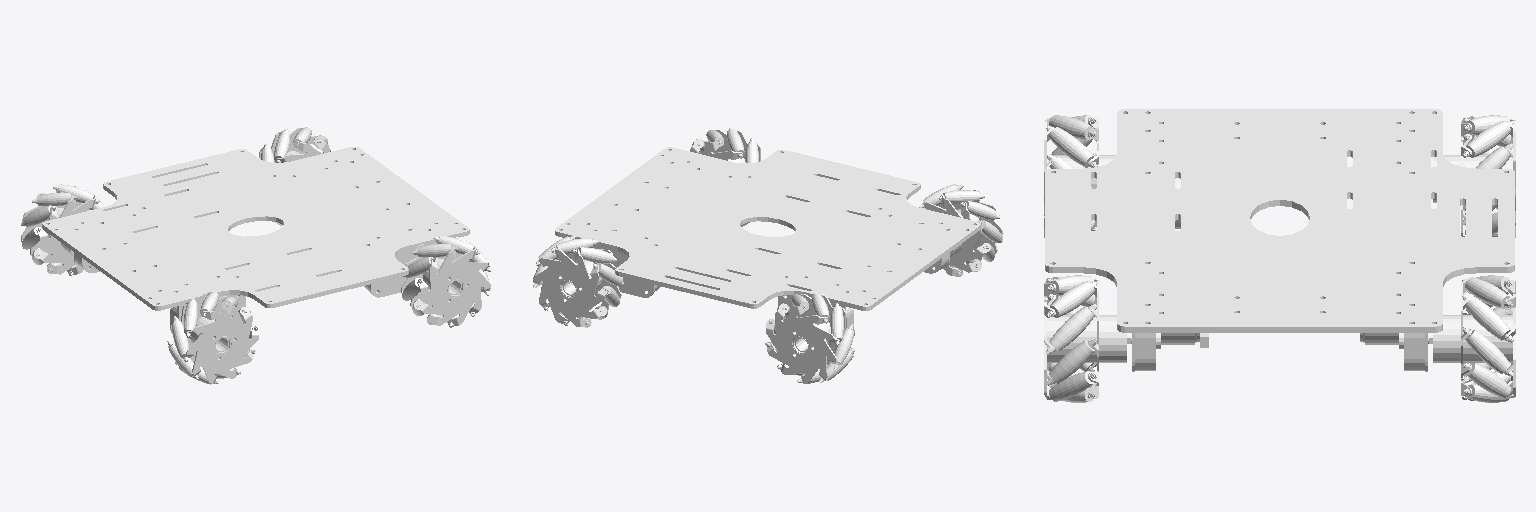
URDF robot description (genimind_description):
<?xml version="1.0" encoding="utf-8"?>
<!-- This URDF was automatically created by SolidWorks to URDF Exporter! Originally created by [author] ([email redacted]) 
     Commit Version: 1.6.0-4-g7f85cfe  Build Version: 1.6.7995.38578
     For more information, please see http://wiki.ros.org/sw_urdf_exporter -->
<robot
  name="genimind_description">
  <link
    name="base_link">
    <inertial>
      <origin
        xyz="-0.000168546343865929 0.000259630628177465 -0.0129346226647377"
        rpy="0 0 0" />
      <mass
        value="0.493681601484372" />
      <inertia
        ixx="0.00132345261482042"
        ixy="-1.9928481762346E-06"
        ixz="4.4132768003374E-22"
        iyy="0.00183954978750504"
        iyz="4.72285914930666E-15"
        izz="0.00311591135609084" />
    </inertial>
    <visual>
      <origin
        xyz="0 0 0"
        rpy="0 0 0" />
      <geometry>
        <mesh
          filename="package://genimind_description/meshes/base_link.STL" />
      </geometry>
      <material
        name="">
        <color
          rgba="1 1 1 1" />
      </material>
    </visual>
    <collision>
      <origin
        xyz="0 0 0"
        rpy="0 0 0" />
      <geometry>
        <mesh
          filename="package://genimind_description/meshes/base_link.STL" />
      </geometry>
    </collision>
  </link>
  <link
    name="font_left_wheel_link">
    <inertial>
      <origin
        xyz="1.34839361898287E-12 -0.0199290979136705 2.00048311249645E-14"
        rpy="0 0 0" />
      <mass
        value="0.0575554110722765" />
      <inertia
        ixx="2.56011836610163E-05"
        ixy="-2.0793290337196E-15"
        ixz="1.1951370808357E-14"
        iyy="3.40216298934298E-05"
        iyz="2.63020503447402E-15"
        izz="2.56011836668079E-05" />
    </inertial>
    <visual>
      <origin
        xyz="0 0 0"
        rpy="0 0 0" />
      <geometry>
        <mesh
          filename="package://genimind_description/meshes/font_left_wheel_link.STL" />
      </geometry>
      <material
        name="">
        <color
          rgba="1 1 1 1" />
      </material>
    </visual>
    <collision>
      <origin
        xyz="0 0 0"
        rpy="0 0 0" />
      <geometry>
        <mesh
          filename="package://genimind_description/meshes/font_left_wheel_link.STL" />
      </geometry>
    </collision>
  </link>
  <joint
    name="font_left_wheel_joint"
    type="continuous">
    <origin
      xyz="0.10999 0.13774 -0.0265"
      rpy="0 0 0" />
    <parent
      link="base_link" />
    <child
      link="font_left_wheel_link" />
    <axis
      xyz="0 1 0" />
  </joint>
  <link
    name="back_left_wheel_link">
    <inertial>
      <origin
        xyz="4.88153797939539E-09 -0.019925814247491 1.42630449569137E-08"
        rpy="0 0 0" />
      <mass
        value="0.0575558026225185" />
      <inertia
        ixx="2.56026270993425E-05"
        ixy="-1.35405247773887E-12"
        ixz="-5.50028991101141E-12"
        iyy="3.40214961937828E-05"
        iyz="1.13868273869082E-12"
        izz="2.56026407763479E-05" />
    </inertial>
    <visual>
      <origin
        xyz="0 0 0"
        rpy="0 0 0" />
      <geometry>
        <mesh
          filename="package://genimind_description/meshes/back_left_wheel_link.STL" />
      </geometry>
      <material
        name="">
        <color
          rgba="1 1 1 1" />
      </material>
    </visual>
    <collision>
      <origin
        xyz="0 0 0"
        rpy="0 0 0" />
      <geometry>
        <mesh
          filename="package://genimind_description/meshes/back_left_wheel_link.STL" />
      </geometry>
    </collision>
  </link>
  <joint
    name="back_left_wheel_joint"
    type="continuous">
    <origin
      xyz="-0.11071 0.13774 -0.0265"
      rpy="0 0 0" />
    <parent
      link="base_link" />
    <child
      link="back_left_wheel_link" />
    <axis
      xyz="0 1 0" />
  </joint>
  <link
    name="font_right_wheel_link">
    <inertial>
      <origin
        xyz="-4.88153800715097E-09 0.019925814247491 1.42630449811998E-08"
        rpy="0 0 0" />
      <mass
        value="0.0575558026225182" />
      <inertia
        ixx="2.56026270993424E-05"
        ixy="-1.35405249887298E-12"
        ixz="5.50028992875037E-12"
        iyy="3.40214961937827E-05"
        iyz="-1.13868275510801E-12"
        izz="2.56026407763478E-05" />
    </inertial>
    <visual>
      <origin
        xyz="0 0 0"
        rpy="0 0 0" />
      <geometry>
        <mesh
          filename="package://genimind_description/meshes/font_right_wheel_link.STL" />
      </geometry>
      <material
        name="">
        <color
          rgba="1 1 1 1" />
      </material>
    </visual>
    <collision>
      <origin
        xyz="0 0 0"
        rpy="0 0 0" />
      <geometry>
        <mesh
          filename="package://genimind_description/meshes/font_right_wheel_link.STL" />
      </geometry>
    </collision>
  </link>
  <joint
    name="font_right_wheel_joint"
    type="continuous">
    <origin
      xyz="0.10999 -0.13662 -0.0265"
      rpy="0 0 0" />
    <parent
      link="base_link" />
    <child
      link="font_right_wheel_link" />
    <axis
      xyz="0 -1 0" />
  </joint>
  <link
    name="back_right_wheel_link">
    <inertial>
      <origin
        xyz="-1.34839361898287E-12 0.0199290979136705 1.99805449963009E-14"
        rpy="0 0 0" />
      <mass
        value="0.0575554110722764" />
      <inertia
        ixx="2.56011836610162E-05"
        ixy="-2.0793145013203E-15"
        ixz="-1.19513650827162E-14"
        iyy="3.40216298934298E-05"
        iyz="-2.63020663651758E-15"
        izz="2.5601183666808E-05" />
    </inertial>
    <visual>
      <origin
        xyz="0 0 0"
        rpy="0 0 0" />
      <geometry>
        <mesh
          filename="package://genimind_description/meshes/back_right_wheel_link.STL" />
      </geometry>
      <material
        name="">
        <color
          rgba="1 1 1 1" />
      </material>
    </visual>
    <collision>
      <origin
        xyz="0 0 0"
        rpy="0 0 0" />
      <geometry>
        <mesh
          filename="package://genimind_description/meshes/back_right_wheel_link.STL" />
      </geometry>
    </collision>
  </link>
  <joint
    name="back_right_wheel_joint"
    type="continuous">
    <origin
      xyz="-0.11071 -0.13662 -0.0265"
      rpy="0 0 0" />
    <parent
      link="base_link" />
    <child
      link="back_right_wheel_link" />
    <axis
      xyz="0 -1 0" />
  </joint>
</robot>

--- Facts derived from the render (not from the file) ---
Views: 3 orthographic renders of the robot side by side, from view 1: azimuth 30°, elevation 25°; view 2: azimuth 150°, elevation 25°; view 3: azimuth 270°, elevation 25°.
Robot: genimind_description — 5 links, 4 joints (4 continuous); root link base_link; default pose: all joints at 0.
Visible links, largest first — view 1: base_link, back_right_wheel_link, font_right_wheel_link, back_left_wheel_link, font_left_wheel_link; view 2: base_link, back_left_wheel_link, font_left_wheel_link, back_right_wheel_link, font_right_wheel_link; view 3: base_link, font_right_wheel_link, font_left_wheel_link, back_left_wheel_link, back_right_wheel_link.
Boxes of the visible links, <box> form: base_link: <box>42,147,469,333</box>; back_right_wheel_link: <box>167,292,258,384</box>; font_right_wheel_link: <box>401,235,490,327</box>; back_left_wheel_link: <box>21,184,104,275</box>; font_left_wheel_link: <box>259,127,338,162</box>; base_link: <box>555,147,980,328</box>; back_left_wheel_link: <box>765,292,854,383</box>; font_left_wheel_link: <box>533,236,623,327</box>; back_right_wheel_link: <box>919,184,1003,276</box>; font_right_wheel_link: <box>690,128,760,162</box>; base_link: <box>1045,109,1514,371</box>; font_right_wheel_link: <box>1044,275,1126,402</box>; font_left_wheel_link: <box>1433,275,1515,402</box>; back_left_wheel_link: <box>1433,115,1515,237</box>; back_right_wheel_link: <box>1044,115,1115,237</box>.
Bounding box of the posed robot: 0.3 × 0.2744 × 0.0744 m (x, y, z).
5 mesh visuals loaded from 5 distinct referenced files (5 binary STL).